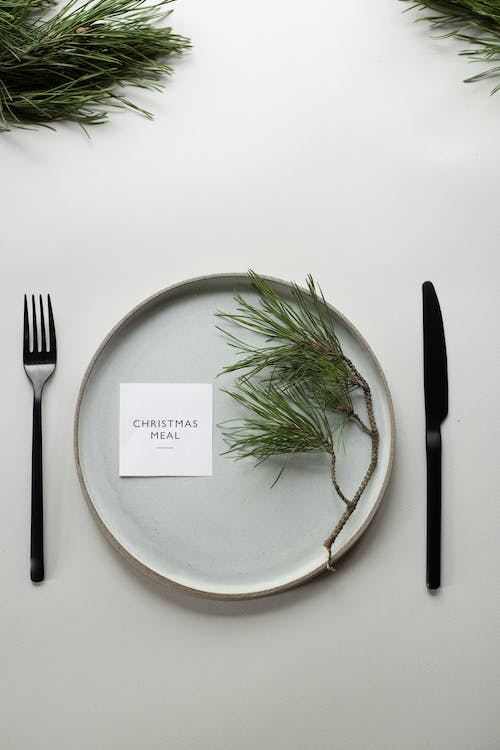knife: (419, 277, 451, 594)
